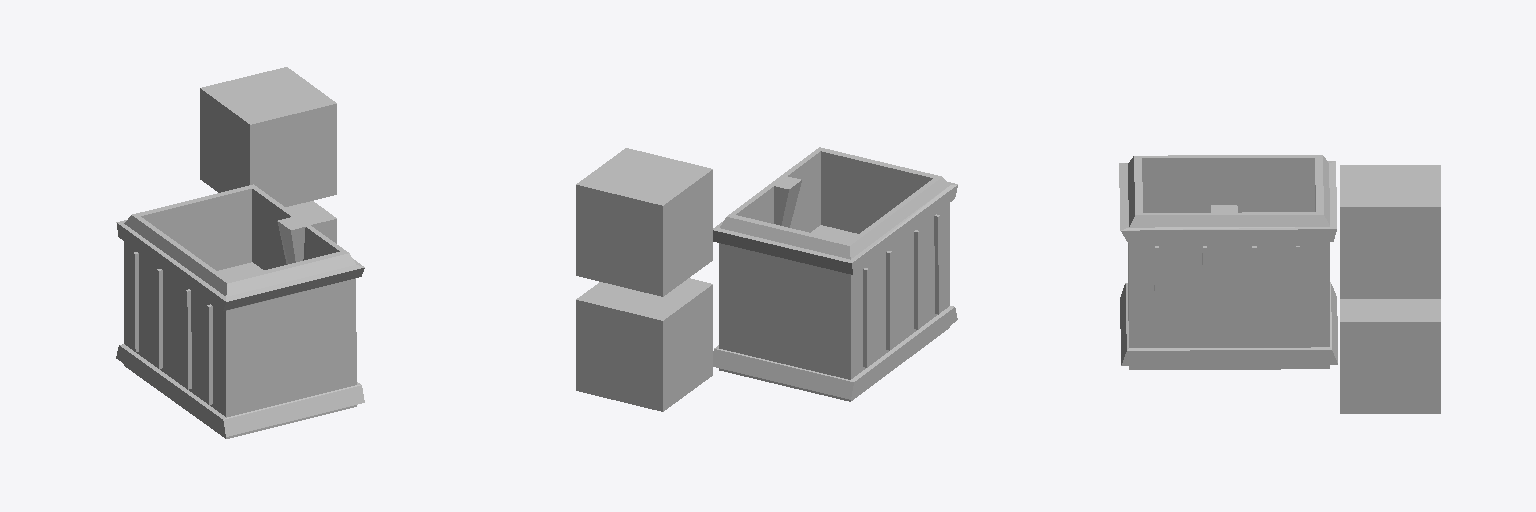
The model's file is contenedor.obj.
3 renders of one model, left to right at view 1: azimuth 30°, elevation 25°; view 2: azimuth 150°, elevation 25°; view 3: azimuth 270°, elevation 25°, orthographic.
Visible parts, largest first — view 1: pCube18, pasted__pCube19 group, pCube19; view 2: pCube18, pasted__pCube19 group, pCube19; view 3: pCube18, pasted__pCube19 group, pCube19.
Part boxes in pixels (left/top/right/bottom): pCube18: left=116, top=184, right=364, bottom=438; pasted__pCube19 group: left=200, top=67, right=336, bottom=206; pCube19: left=286, top=201, right=336, bottom=243; pCube18: left=713, top=147, right=957, bottom=401; pasted__pCube19 group: left=576, top=148, right=712, bottom=296; pCube19: left=576, top=278, right=712, bottom=411; pCube18: left=1119, top=155, right=1337, bottom=369; pasted__pCube19 group: left=1340, top=165, right=1440, bottom=298; pCube19: left=1340, top=299, right=1440, bottom=413.
Bounding box in the file's own units: 512 × 452 × 640.